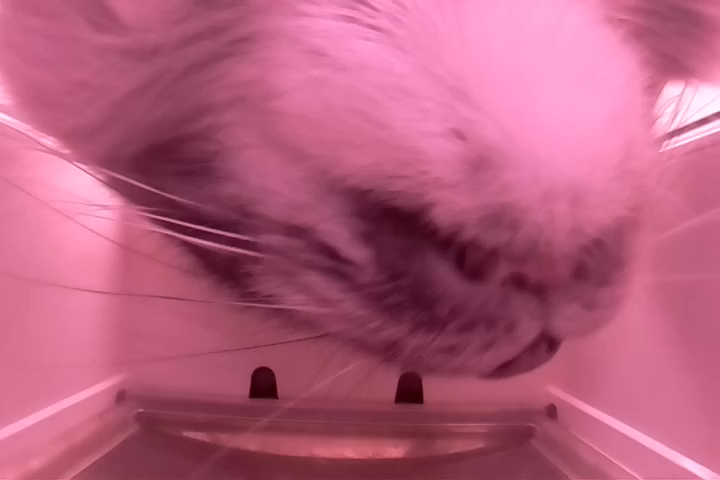Snout: (347, 165, 647, 383)
